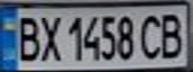1: (63, 12, 84, 62)
4: (81, 11, 103, 62)
5: (100, 11, 121, 61)
8: (115, 11, 139, 61)
B: (154, 8, 190, 60), (9, 11, 42, 62)
C: (136, 10, 166, 61)
X: (36, 11, 63, 63)
